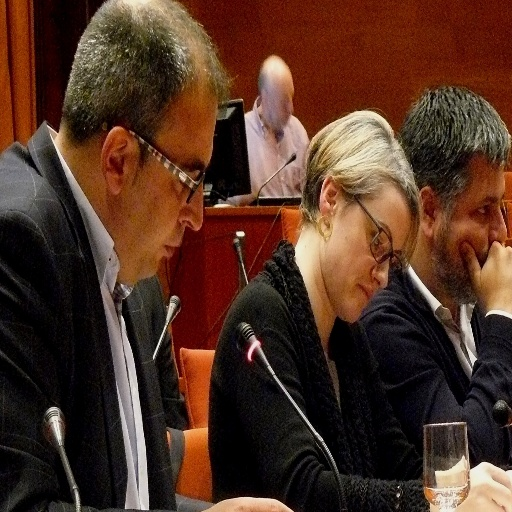hand: (439, 459, 511, 511), (463, 246, 507, 306), (200, 495, 294, 511)
